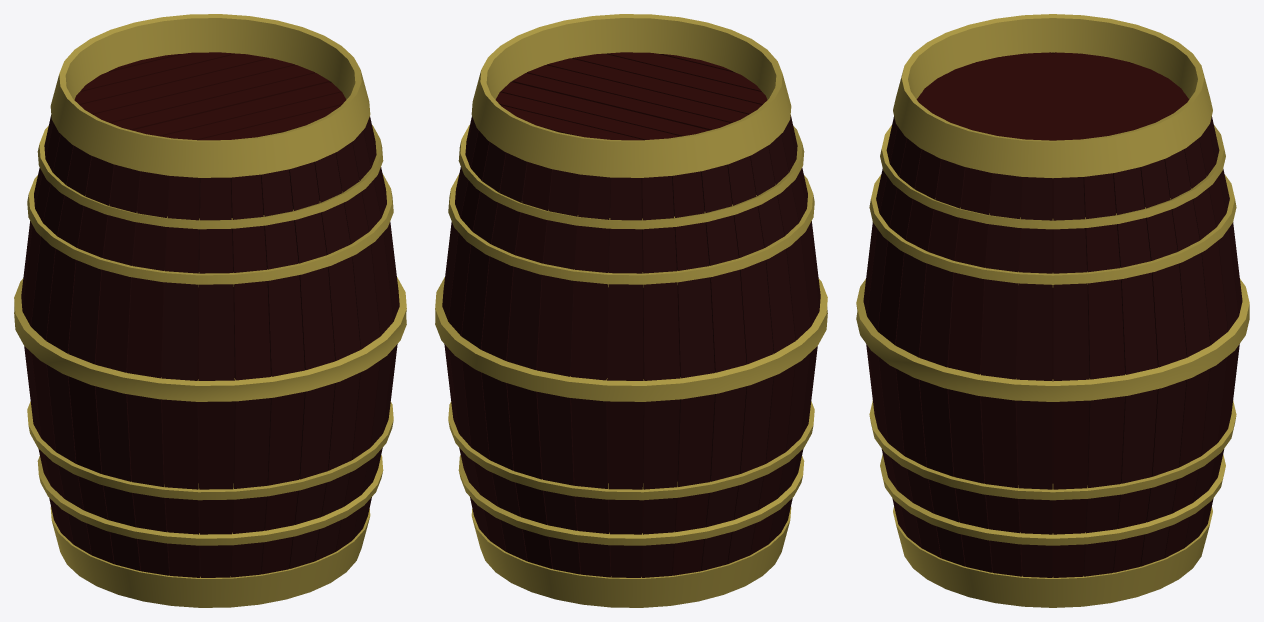
Rendered from Bariil.fbx.
The picture shows the model from 3 angles, left to right: view 1: azimuth 30°, elevation 25°; view 2: azimuth 150°, elevation 25°; view 3: azimuth 270°, elevation 25°; orthographic projection.
Visible parts, largest first — view 1: Cylinder, Cylinder.001; view 2: Cylinder, Cylinder.001; view 3: Cylinder, Cylinder.001.
Boxes of the visible parts, x1=… form: Cylinder: x1=14, y1=14, x2=406, y2=607; Cylinder.001: x1=74, y1=52, x2=346, y2=140; Cylinder: x1=435, y1=14, x2=827, y2=607; Cylinder.001: x1=495, y1=52, x2=767, y2=140; Cylinder: x1=856, y1=14, x2=1249, y2=607; Cylinder.001: x1=916, y1=52, x2=1189, y2=140.
Size of the model in its own units: 84.65 by 111 by 84.65.
